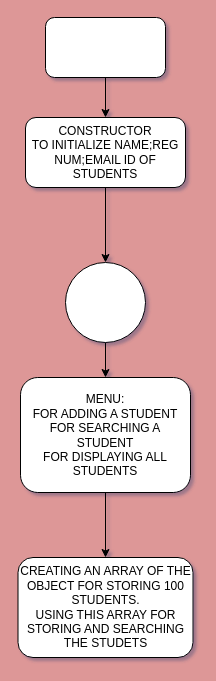
The diagram is 216 pixels wide and 681 high, and some of its shapes have lost their labels. The centre of each missing label's shape, as x and y in pixels:
"MAIN" belongs at point (105, 302).
"STUDENT CLASS" belongs at point (105, 47).
